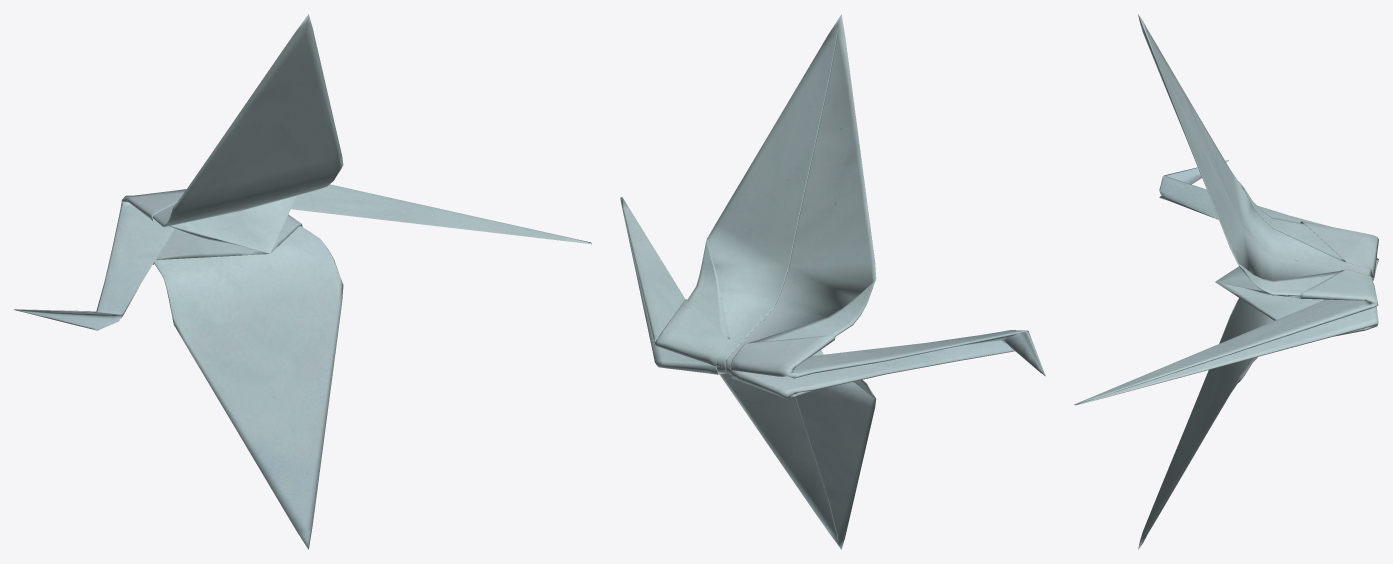
File: crane.gltf
3 views of the same model, side by side, from view 1: azimuth 30°, elevation 25°; view 2: azimuth 150°, elevation 25°; view 3: azimuth 270°, elevation 25° (orthographic).
Visible parts, largest first — view 1: Crane; view 2: Crane; view 3: Crane.
Part boxes in pixels (x1,y1,x2,y2): Crane: (14, 14, 591, 549); Crane: (620, 14, 1045, 549); Crane: (1074, 14, 1378, 549).
Bounding box in the file's own units: 11.68 × 11.93 × 6.15.
1 material, 1 textured.
